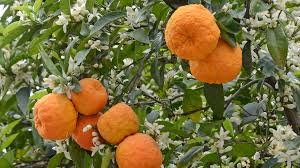orange: (162, 5, 219, 63), (187, 39, 244, 86), (29, 92, 78, 141), (111, 132, 167, 168), (69, 111, 107, 154), (96, 104, 140, 140), (71, 76, 107, 114)
